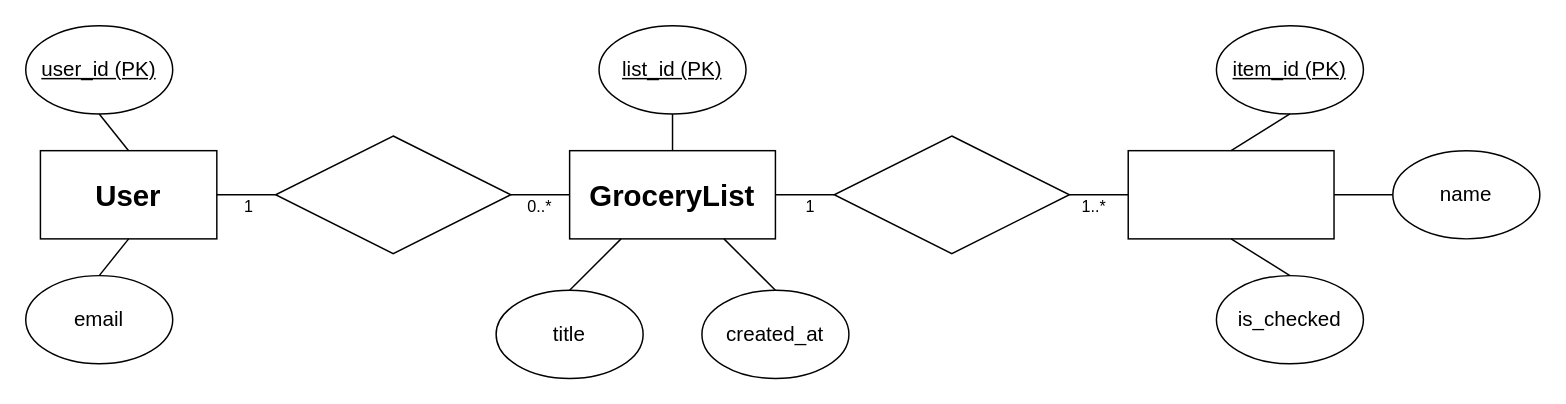
The diagram is 1566 pixels wide and 404 high, and some of its shapes have lost their labels. The centre of each missing label's shape, as x and y in pixels:
Contains: [951,194]
GroceryItem: [1230,194]
Owns: [392,194]
